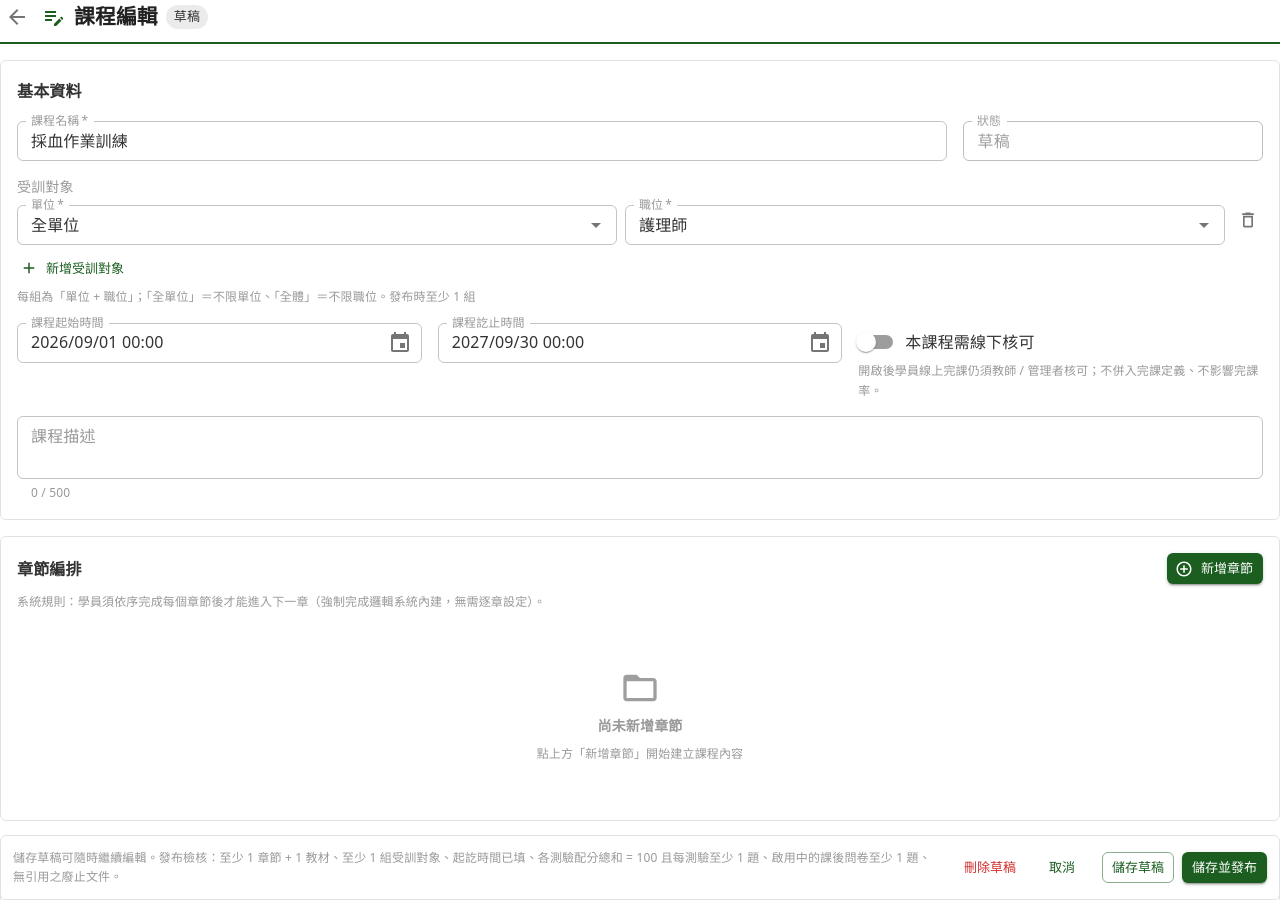
ET05 刪除草稿 › 在確認視窗按取消，一次請求都不發出（#457）
The image size is (1280, 900).
What coordinates should you click on to do the following:
click the button "刪除草稿"
I would click on:
 (990, 867)
Its box is [958, 852, 1022, 882].
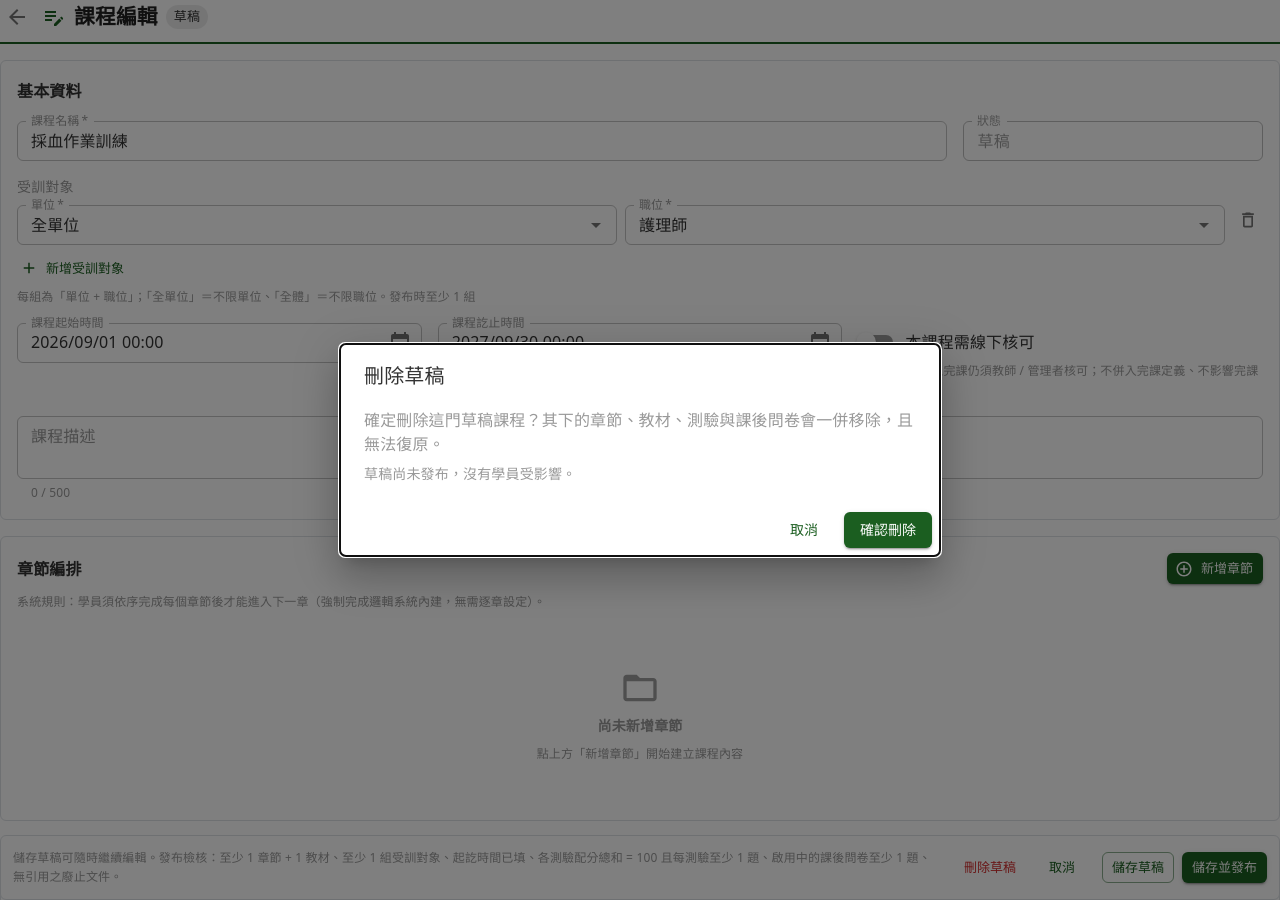
Check: the button "確認刪除" is shown, box [844, 512, 932, 548]
What coordinates should you click on to do the following:
click the button "取消"
I would click on:
 (804, 530)
Its box is [772, 512, 836, 548].
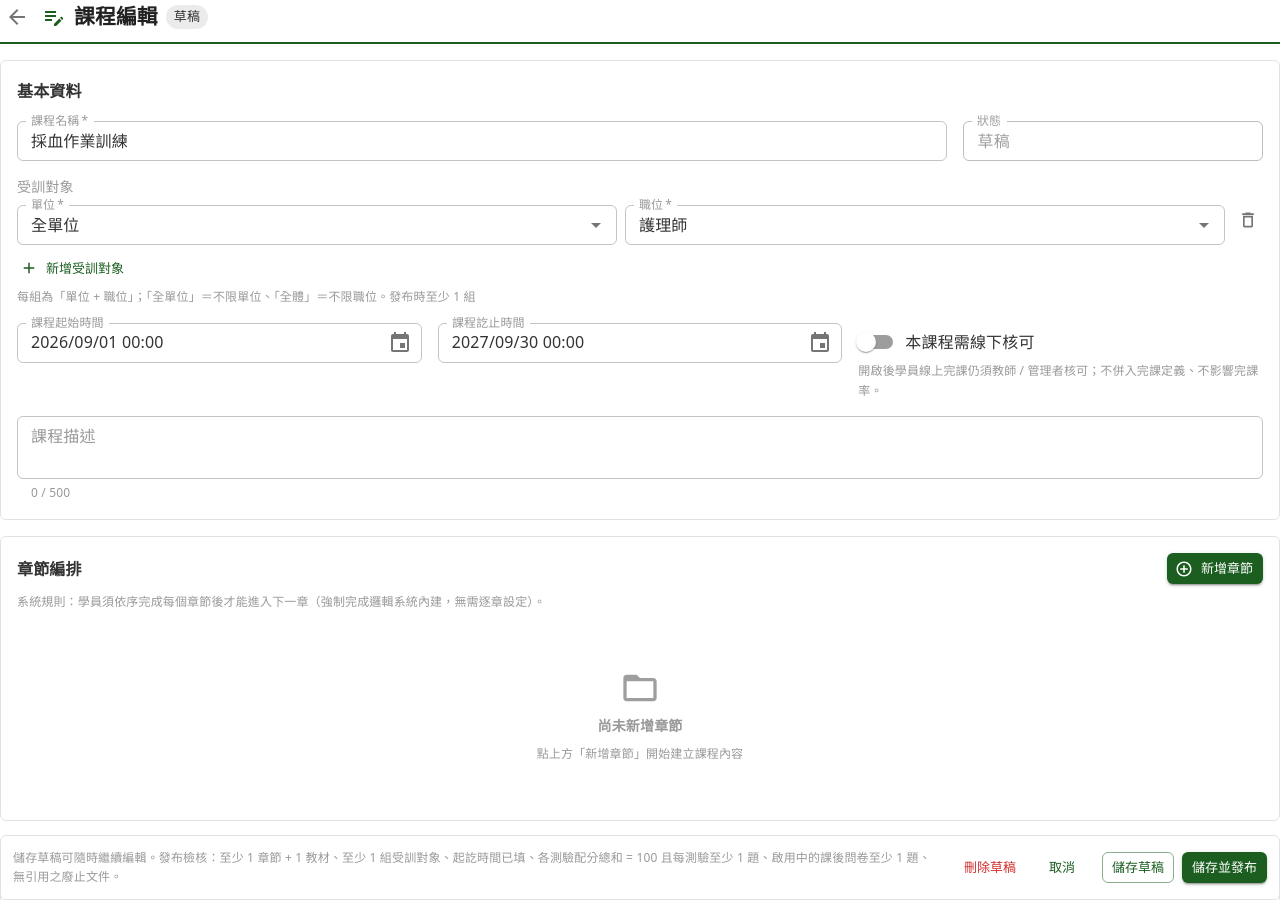
Check: the button "確認刪除" is gone
